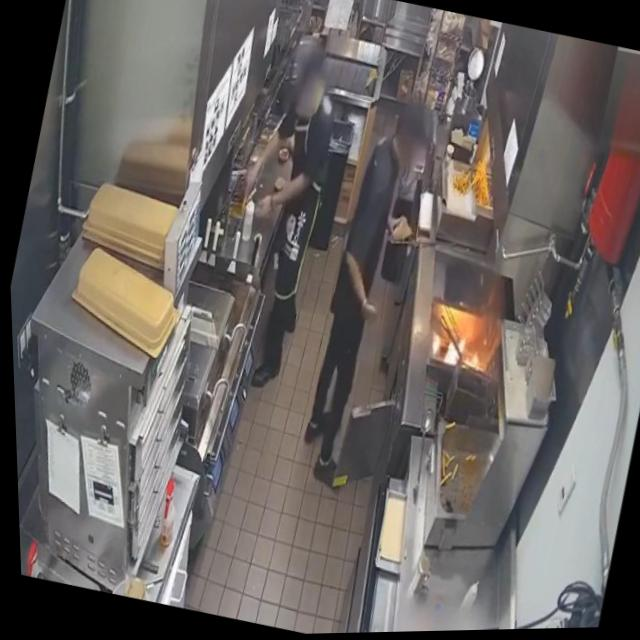fire: (434, 332, 468, 370), (464, 351, 481, 372)
